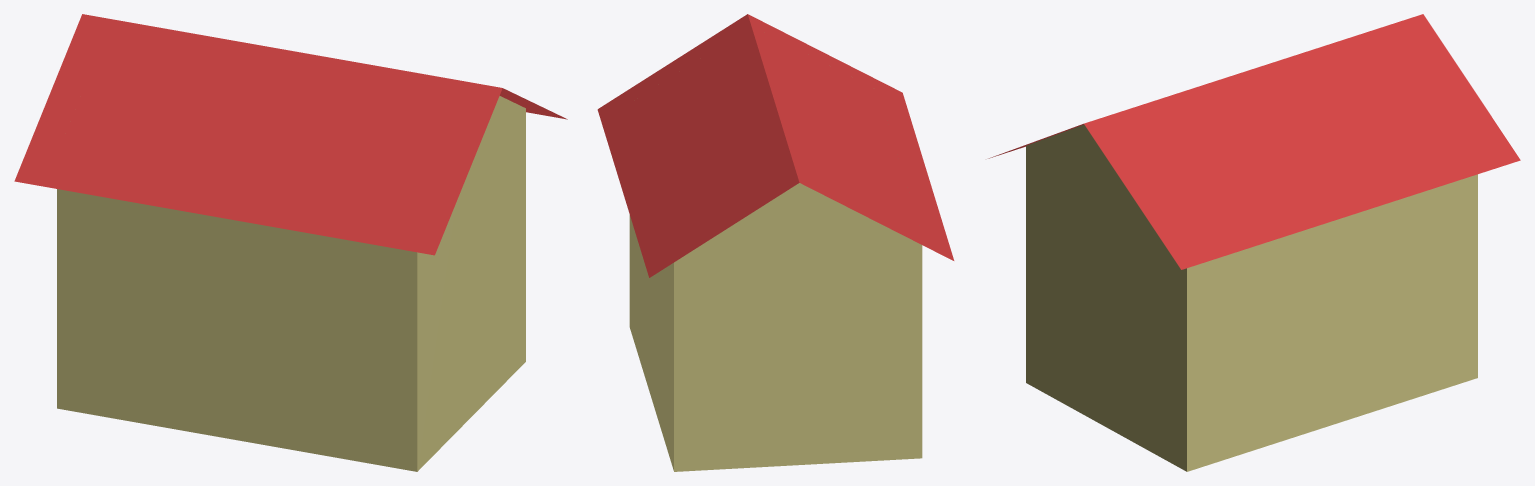
3 views of the same model, side by side, from view 1: azimuth 30°, elevation 25°; view 2: azimuth 150°, elevation 25°; view 3: azimuth 270°, elevation 25° (orthographic). The views are drawn at different scales.
Size of the model in its own units: 12.76 by 13.22 by 8.48.
